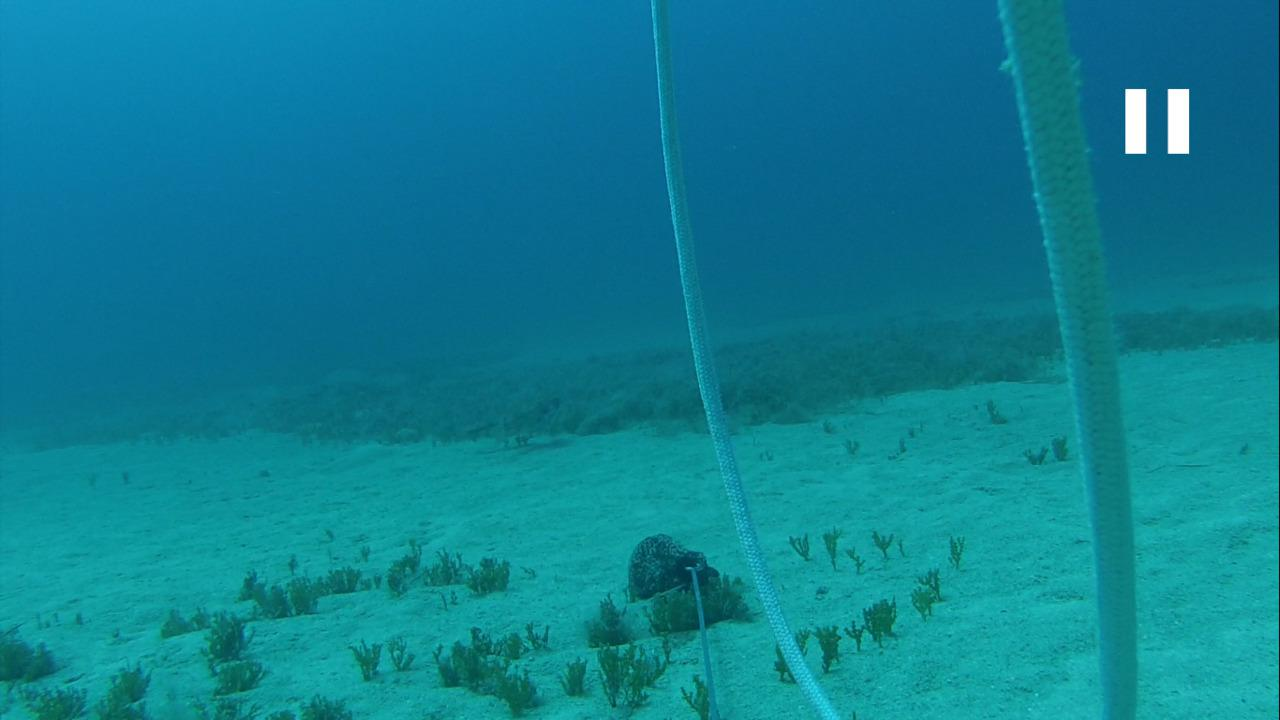dactylopterus: (474, 395, 565, 445)
